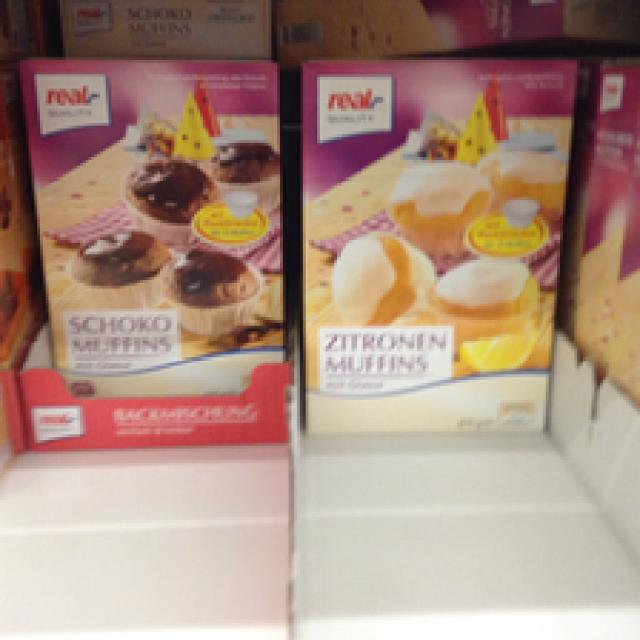groceries: (294, 57, 577, 446), (14, 51, 283, 403)
